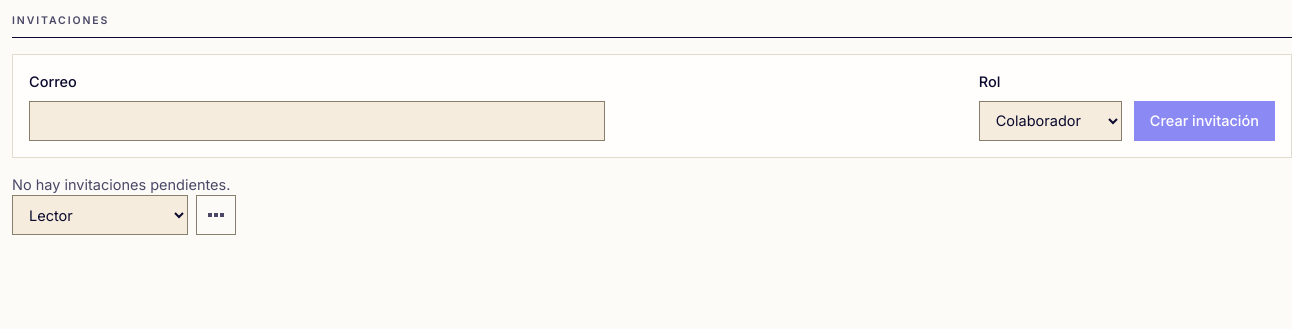
Scenario: renders the members controls in Spanish
Expected: the text "No hay invitaciones pendientes." is shown, [12, 176, 230, 192]
What coordinates should you click on to do the following:
click the button named "Acciones para r@e2e.test"
I would click on:
 (216, 215)
Its box is [196, 195, 236, 235].
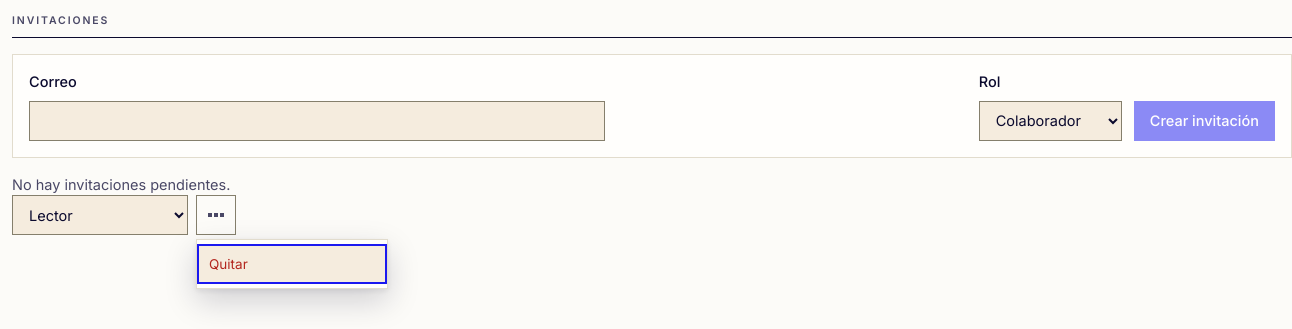
Expected: the menu item with aria-label "Quitar a r@e2e.test" is shown, [197, 244, 387, 284]
